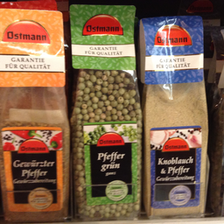spices: (69, 3, 142, 220), (1, 1, 68, 224), (138, 13, 207, 218)
